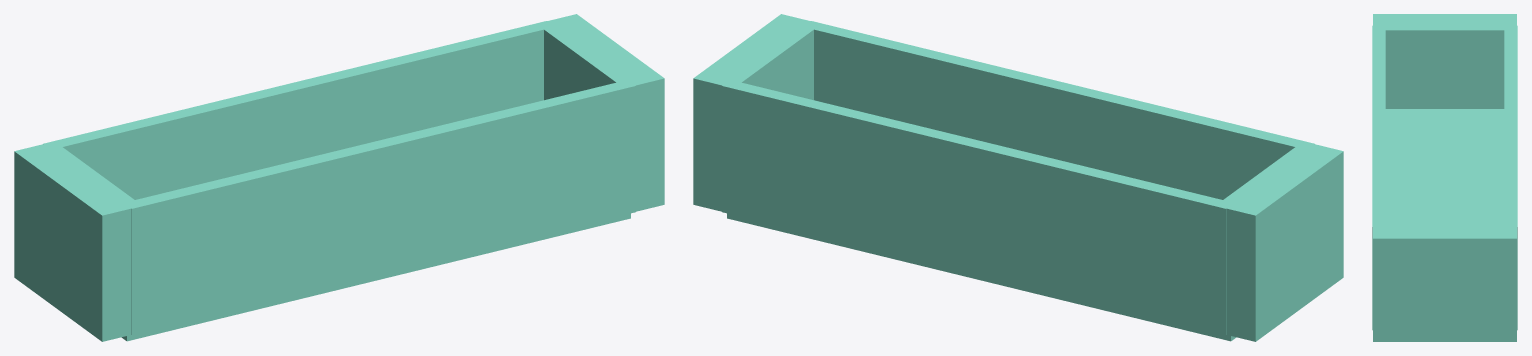
3 renders of one model, left to right at view 1: azimuth 30°, elevation 25°; view 2: azimuth 150°, elevation 25°; view 3: azimuth 270°, elevation 25°, orthographic. The views are drawn at different scales.
Visible parts, largest first — view 1: Bin end, Bin end.001, Bin side, Bin side.001, Bin bottom; view 2: Bin end.001, Bin end, Bin side, Bin side.001, Bin bottom; view 3: Bin side.001, Bin bottom, Bin side, Bin end, Bin end.001.
Boxes of the visible parts, x1=… form: Bin end: x1=124, y1=80, x2=635, y2=334; Bin end.001: x1=43, y1=21, x2=554, y2=199; Bin side: x1=14, y1=141, x2=140, y2=341; Bin side.001: x1=536, y1=14, x2=664, y2=211; Bin bottom: x1=121, y1=213, x2=630, y2=341; Bin end.001: x1=722, y1=80, x2=1233, y2=334; Bin end: x1=803, y1=21, x2=1314, y2=199; Bin side: x1=1216, y1=141, x2=1343, y2=341; Bin side.001: x1=693, y1=14, x2=820, y2=211; Bin bottom: x1=727, y1=213, x2=1236, y2=341; Bin side.001: x1=1373, y1=222, x2=1516, y2=341; Bin bottom: x1=1385, y1=109, x2=1504, y2=222; Bin side: x1=1373, y1=14, x2=1516, y2=108; Bin end: x1=1372, y1=25, x2=1385, y2=330; Bin end.001: x1=1504, y1=25, x2=1517, y2=330.
Size of the model in its own units: 1.06 by 0.246 by 0.291.
1 material, 1 textured.
